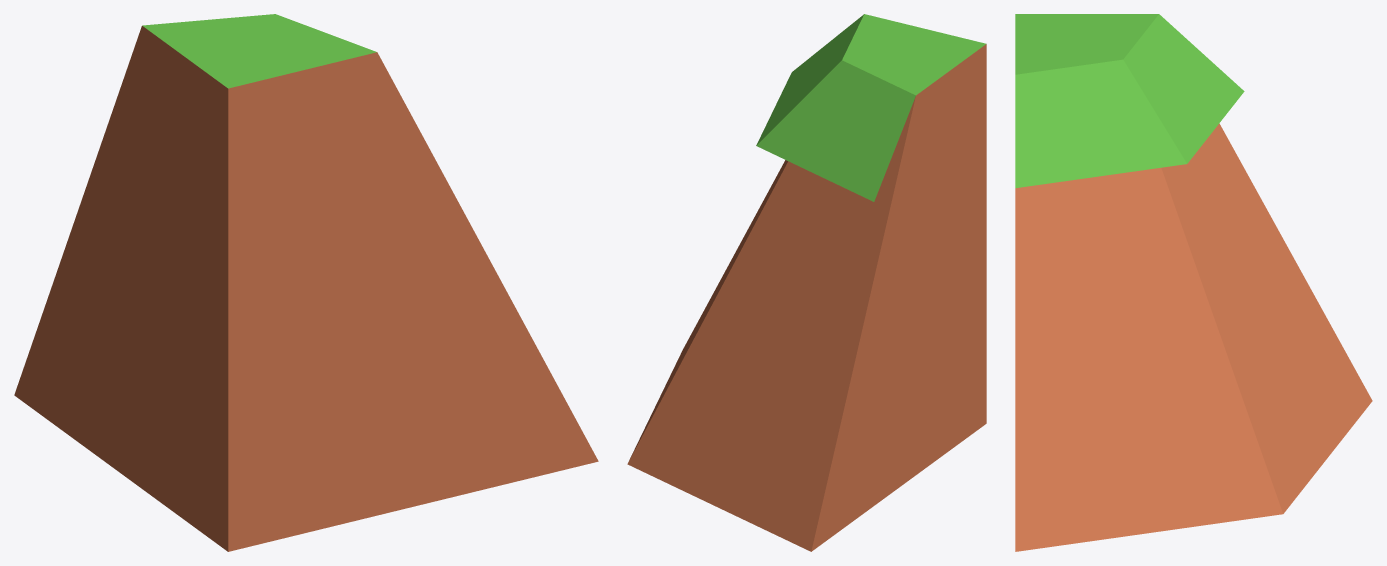
Rendered from cliff_halfCorner_rock.glb.
3 views of the same model, side by side, from view 1: azimuth 30°, elevation 25°; view 2: azimuth 150°, elevation 25°; view 3: azimuth 270°, elevation 25° (orthographic). The views are drawn at different scales.
Visible parts, largest first — view 1: cliff_halfCorner_rock; view 2: cliff_halfCorner_rock; view 3: cliff_halfCorner_rock.
Part boxes in pixels (<box>): cliff_halfCorner_rock: <box>14,14,598,551</box>; cliff_halfCorner_rock: <box>627,14,986,551</box>; cliff_halfCorner_rock: <box>1015,14,1372,551</box>.
Bounding box in the file's own units: 0.4185 × 0.5 × 0.4185.
